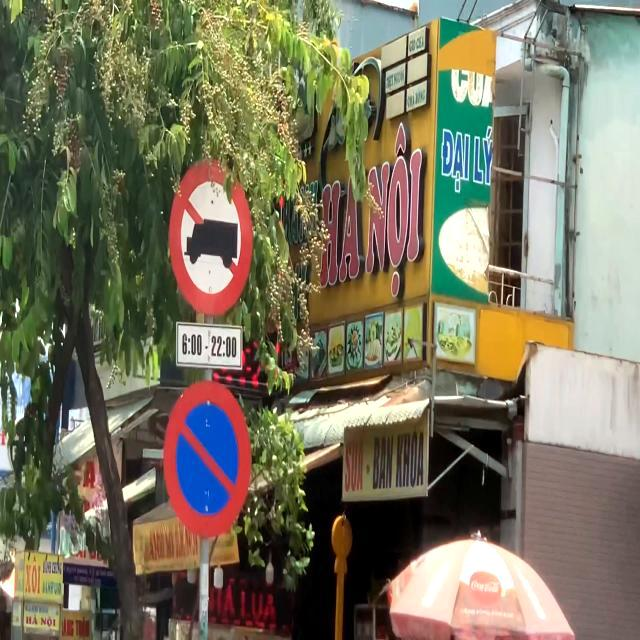Cam do xe: (160, 382, 252, 538)
Cam xe tai: (171, 161, 258, 311)
